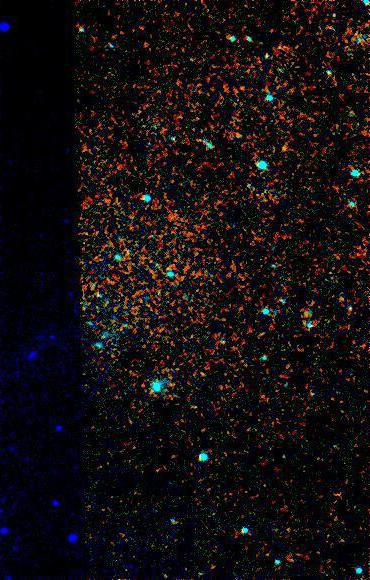star: (270, 133, 300, 163)
